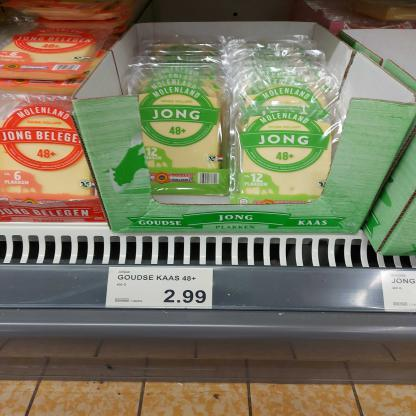prtg: (106, 268, 214, 310), (381, 272, 415, 313)
